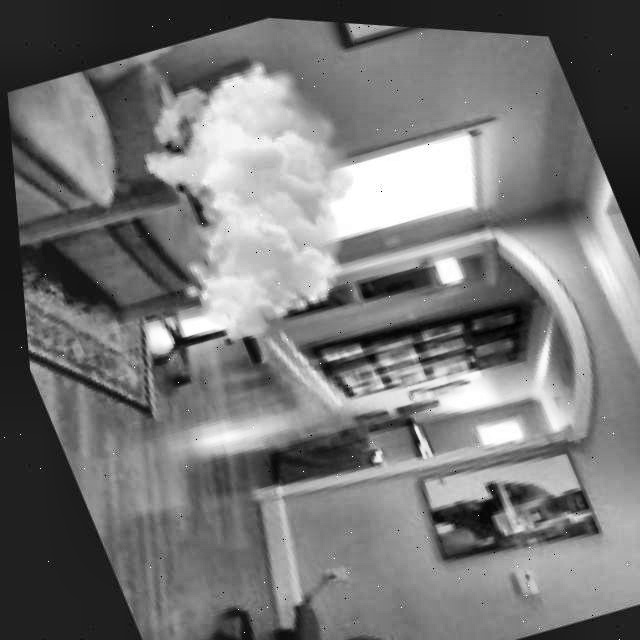Smoke: (101, 40, 407, 348)
